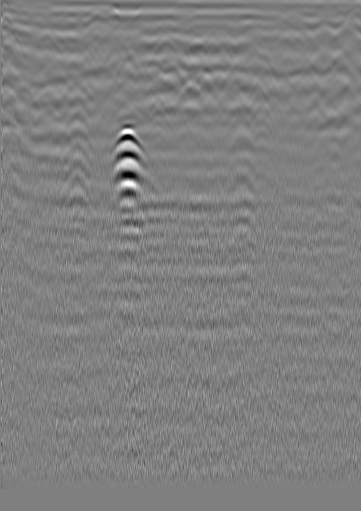가스: (105, 128, 144, 165)
상수: (38, 27, 58, 47)
오수: (305, 12, 325, 32)
우수: (169, 16, 189, 36)
